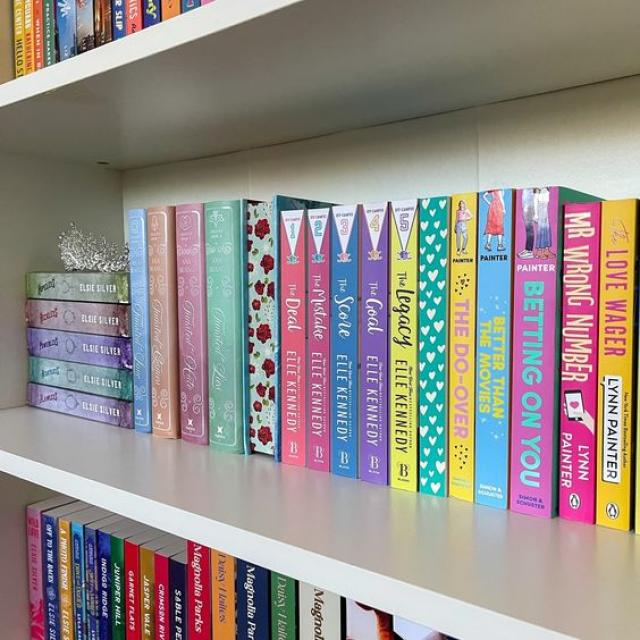book: (511, 186, 559, 517), (595, 201, 636, 531), (559, 203, 601, 524), (474, 189, 512, 508), (204, 198, 243, 453), (418, 196, 450, 497), (357, 201, 388, 486), (388, 198, 418, 491), (449, 192, 475, 501), (175, 204, 207, 448), (331, 205, 358, 477), (280, 209, 306, 468), (305, 207, 330, 471), (148, 207, 174, 438), (27, 382, 134, 428), (128, 209, 149, 433), (28, 357, 133, 401), (26, 328, 133, 370), (25, 300, 130, 337), (27, 272, 130, 304)
